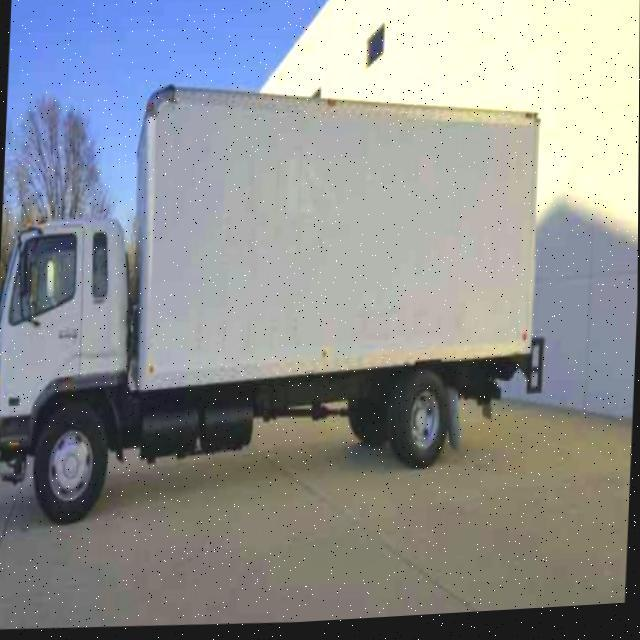truck: (0, 58, 558, 540)
